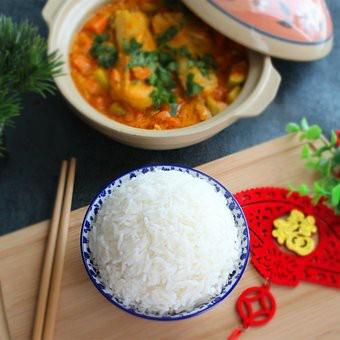WhiteRice: (88, 169, 238, 314)
